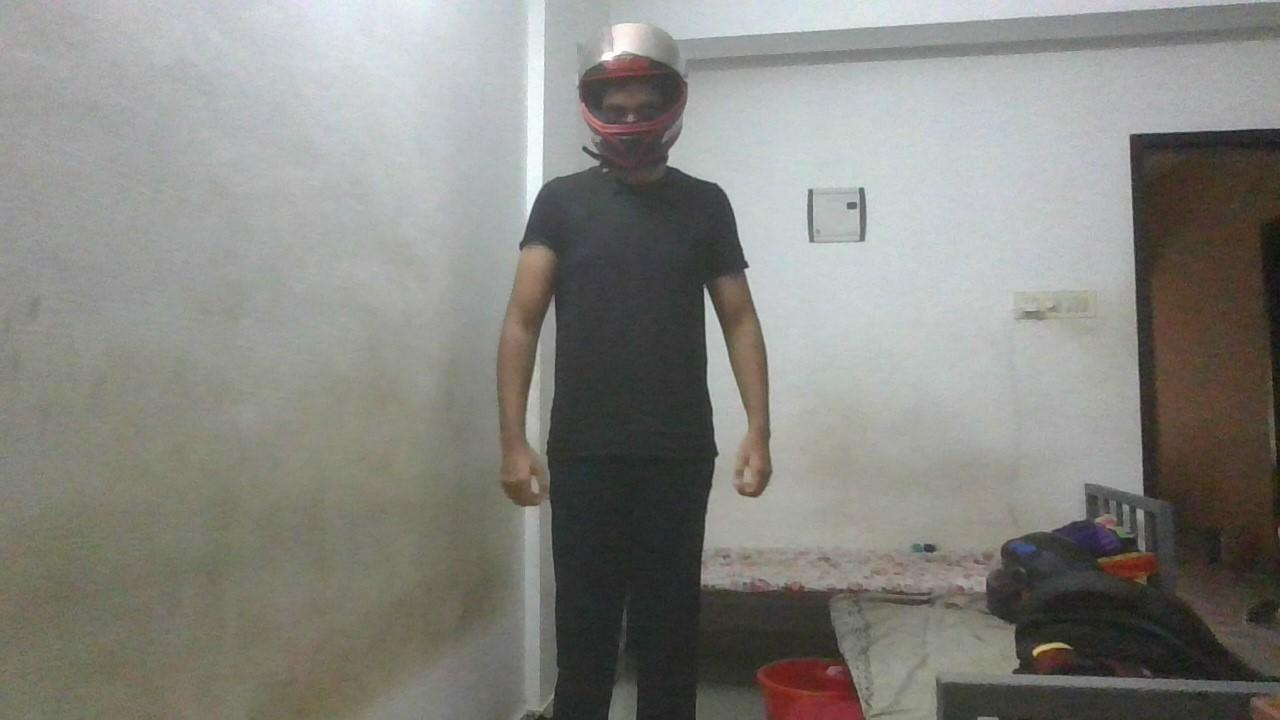helmet: (575, 21, 690, 172)
